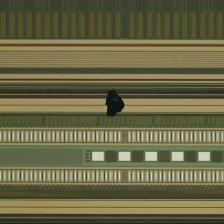PARTICLE: (104, 89, 128, 118)
